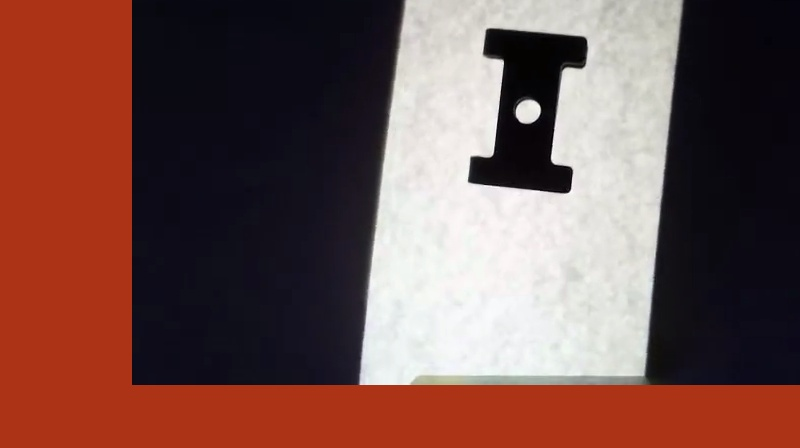O002: (463, 21, 593, 201)
